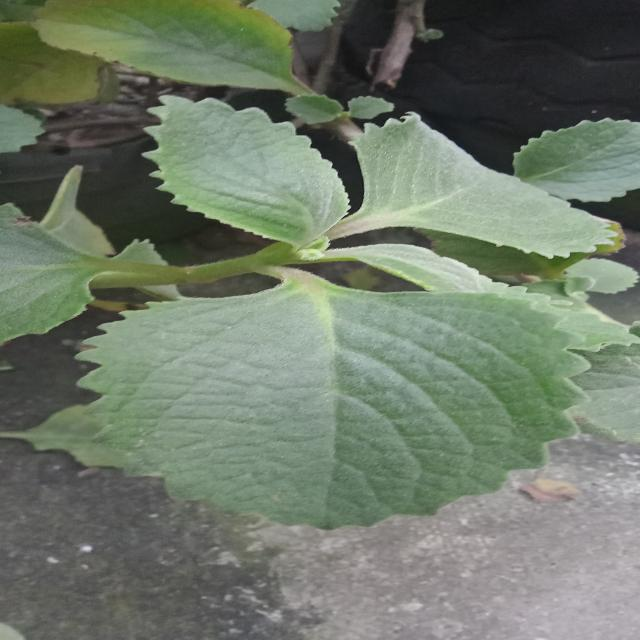Oregano: (39, 269, 626, 546)
